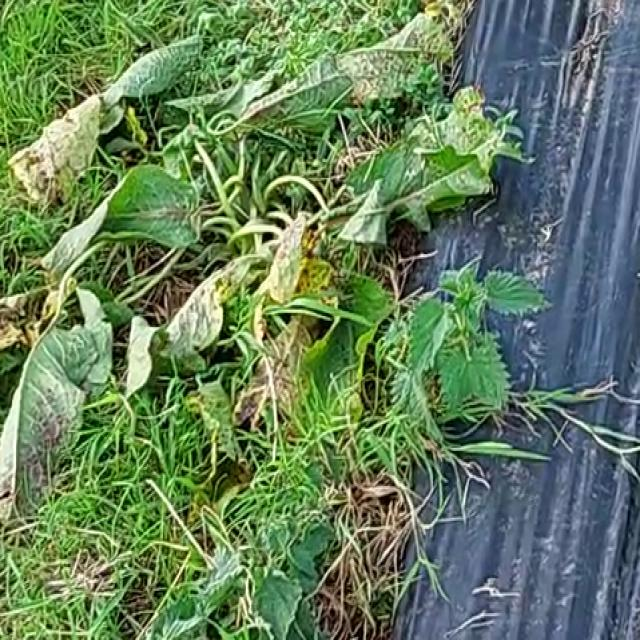organic waste: (29, 48, 461, 543)
